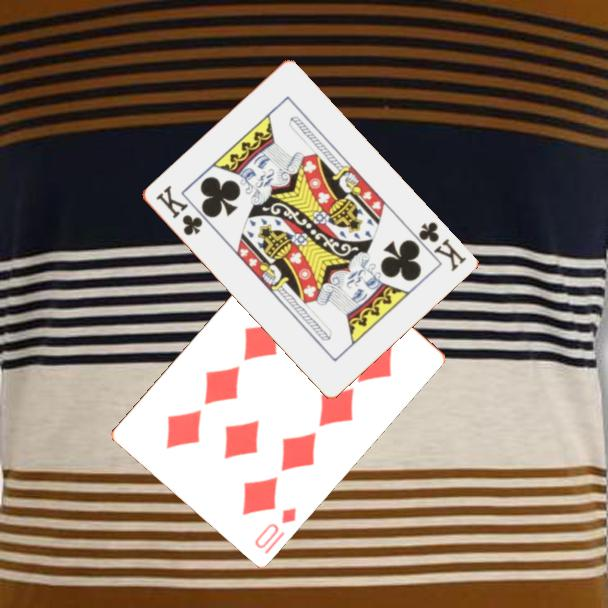c13: (414, 218, 469, 275), (152, 182, 205, 239)
d10: (251, 503, 299, 557)
